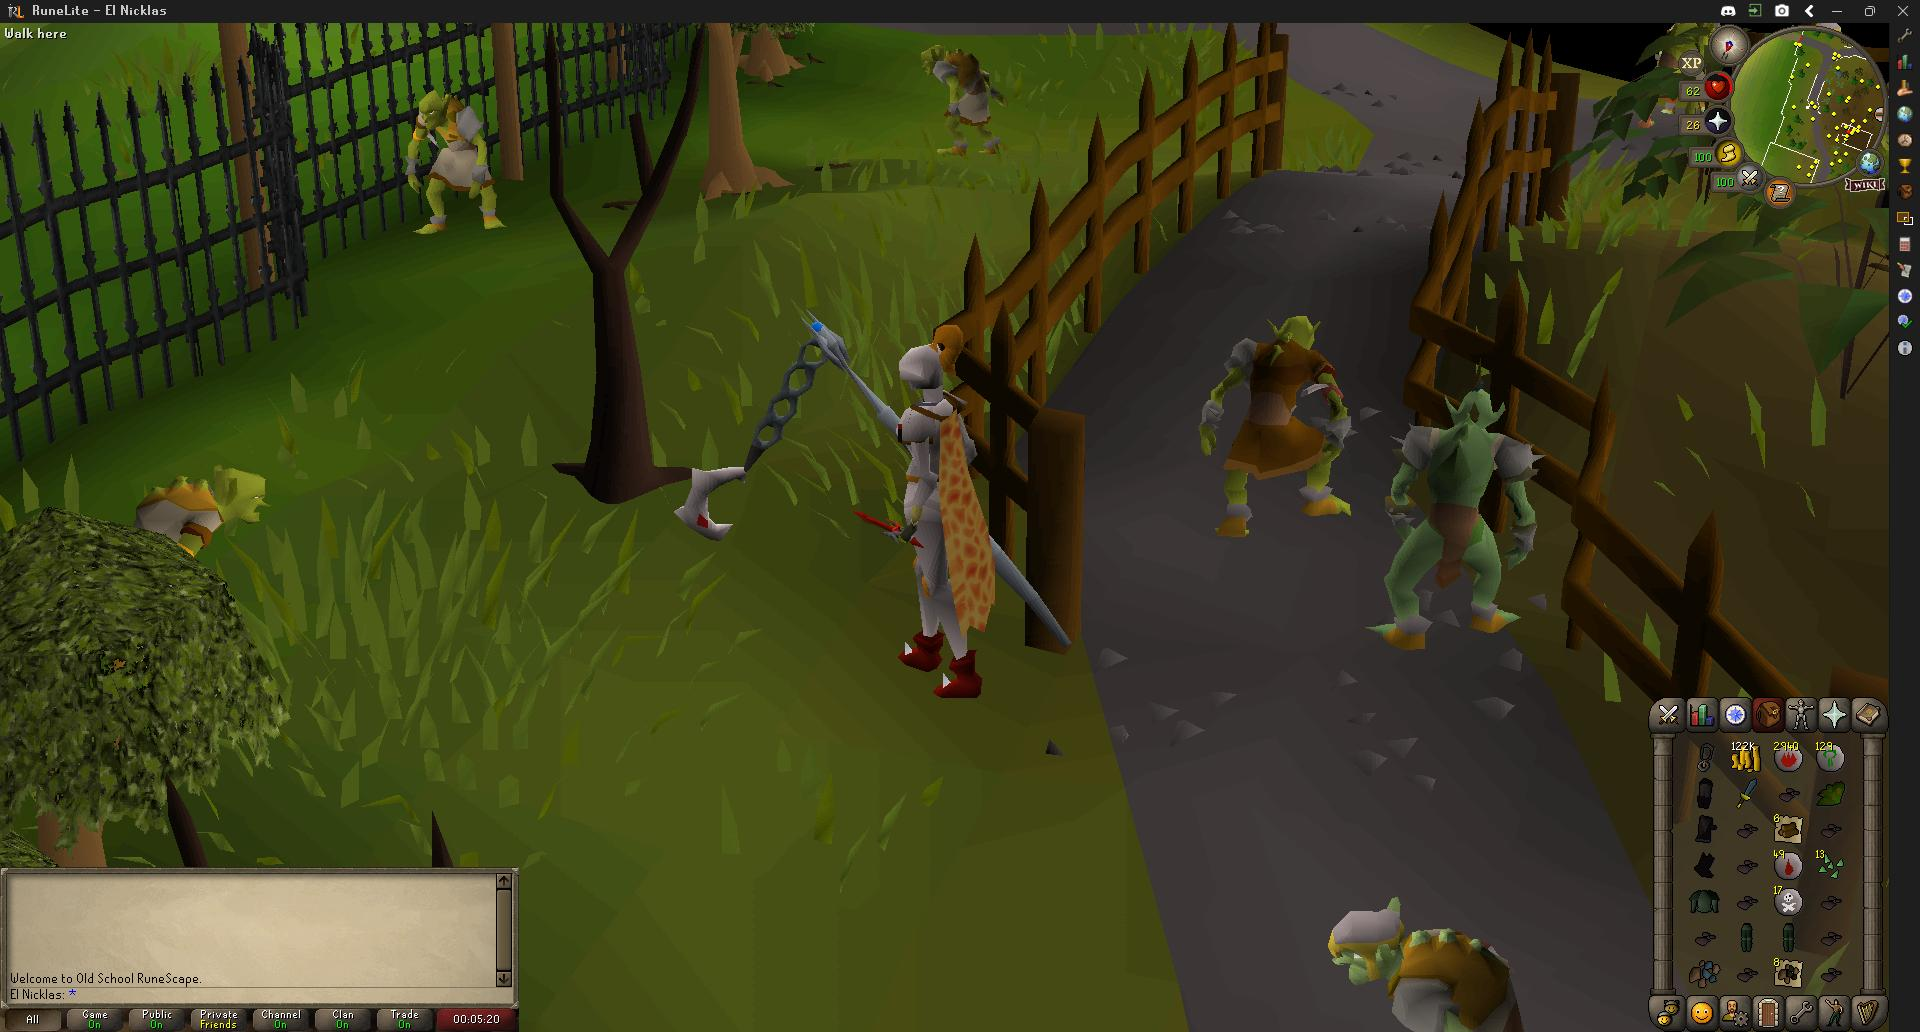Player: (853, 331, 1010, 706)
goblin: (1364, 377, 1522, 645), (1324, 893, 1522, 1031), (1214, 312, 1314, 539), (405, 86, 506, 235), (135, 464, 267, 564), (923, 44, 1005, 159)
